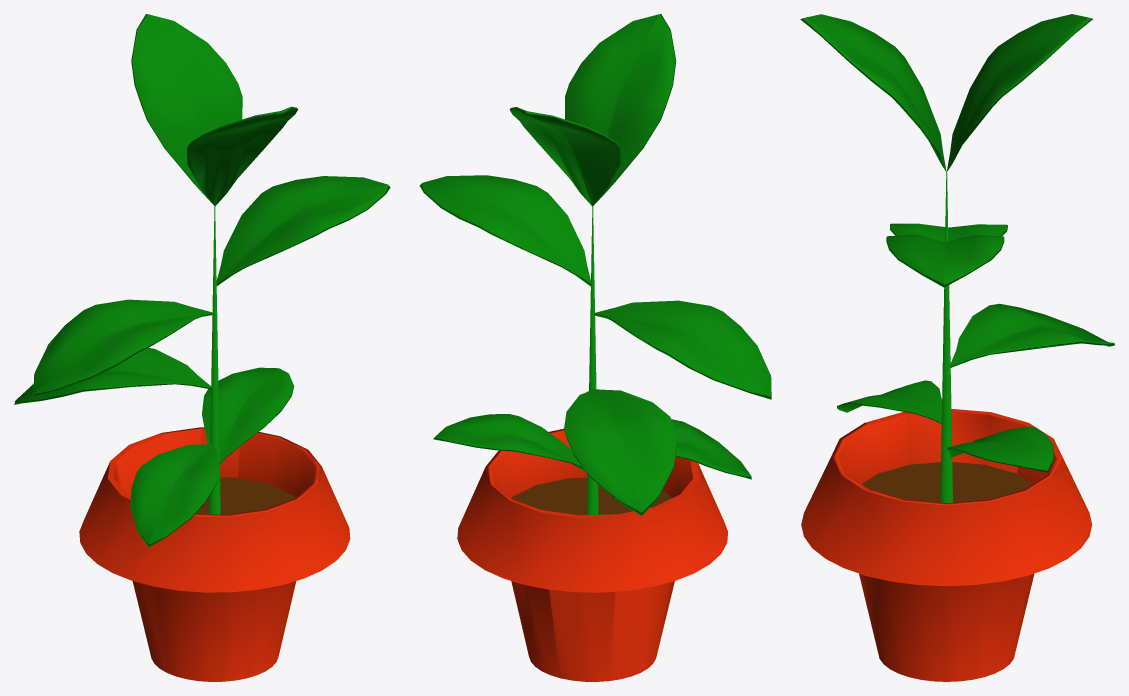
Rendered from Planta para jardín.fbx.
3 views of the same model, side by side, from view 1: azimuth 30°, elevation 25°; view 2: azimuth 150°, elevation 25°; view 3: azimuth 270°, elevation 25° (orthographic). The views are drawn at different scales.
Parts seen in each view (by area): view 1: Cylinder, Cylinder.002, Cube.001, Cube.005, Cube.004, Cube.008, Cube.009, Cube, Cube.007, Cylinder.001, Cylinder.003; view 2: Cylinder.002, Cylinder, Cube, Cube.007, Cube.004, Cube.005, Cube.001, Cube.009, Cylinder.001, Cube.008, Cylinder.003; view 3: Cylinder, Cylinder.002, Cube.001, Cube, Cube.007, Cylinder.001, Cube.005, Cube.009, Cylinder.003, Cube.008, Cube.004.
Part boxes in pixels (left/top/right/bottom): Cylinder: left=107, top=427, right=321, bottom=681; Cylinder.002: left=79, top=461, right=350, bottom=592; Cube.001: left=131, top=14, right=242, bottom=204; Cube.005: left=216, top=176, right=390, bottom=286; Cube.004: left=33, top=299, right=212, bottom=397; Cube.008: left=130, top=444, right=220, bottom=547; Cube.009: left=202, top=367, right=294, bottom=463; Cube: left=187, top=106, right=297, bottom=206; Cube.007: left=14, top=348, right=210, bottom=404; Cylinder.001: left=196, top=477, right=294, bottom=514; Cylinder.003: left=209, top=206, right=220, bottom=514; Cylinder.002: left=457, top=463, right=727, bottom=592; Cylinder: left=485, top=428, right=699, bottom=681; Cube: left=565, top=14, right=676, bottom=205; Cube.007: left=564, top=389, right=676, bottom=515; Cube.004: left=594, top=300, right=771, bottom=399; Cube.005: left=419, top=175, right=590, bottom=286; Cube.001: left=509, top=107, right=620, bottom=206; Cube.009: left=433, top=414, right=584, bottom=470; Cylinder.001: left=511, top=477, right=672, bottom=515; Cube.008: left=671, top=419, right=751, bottom=479; Cylinder.003: left=586, top=206, right=598, bottom=515; Cylinder: left=831, top=409, right=1062, bottom=681; Cylinder.002: left=801, top=454, right=1092, bottom=586; Cube.001: left=946, top=14, right=1092, bottom=171; Cube: left=800, top=14, right=946, bottom=171; Cube.007: left=950, top=303, right=1114, bottom=367; Cylinder.001: left=862, top=462, right=1032, bottom=502; Cube.005: left=886, top=234, right=1004, bottom=287; Cube.009: left=947, top=426, right=1053, bottom=472; Cylinder.003: left=940, top=172, right=952, bottom=503; Cube.008: left=837, top=380, right=941, bottom=423; Cube.004: left=890, top=223, right=1007, bottom=241.
Size of the model in its own units: 970 by 1548 by 695.
